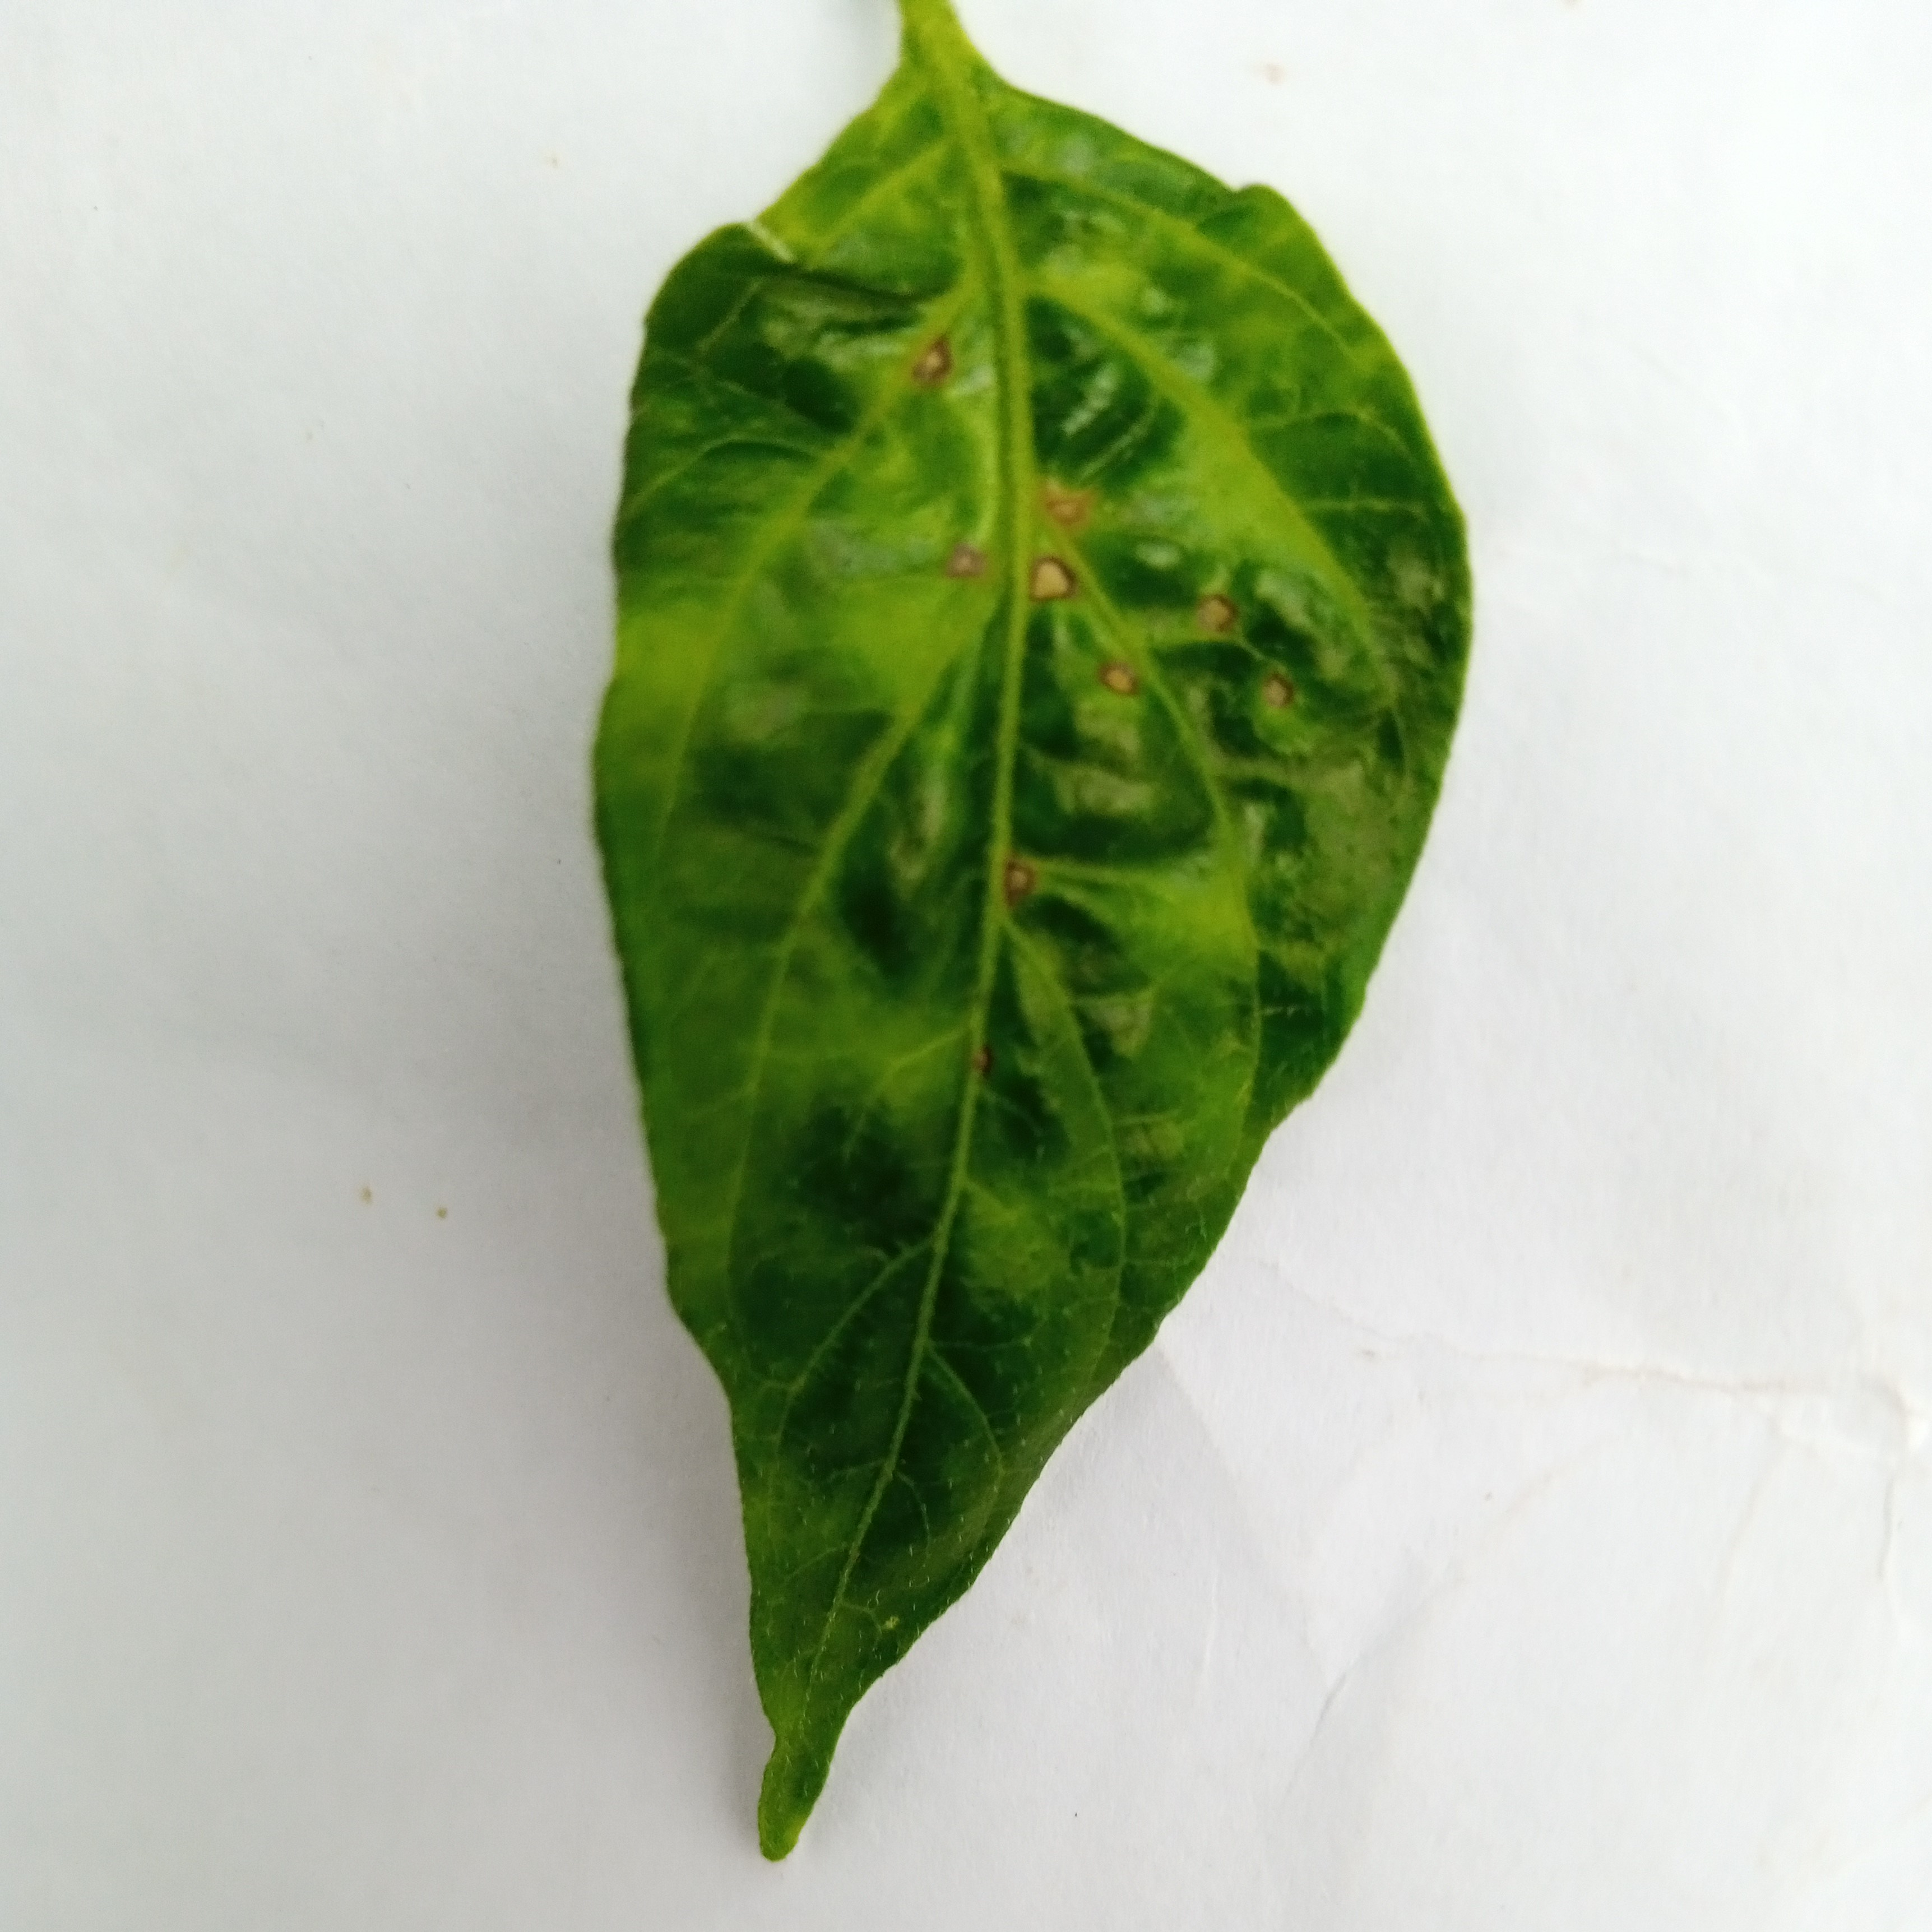Leaf: (237, 37, 1782, 1932)
